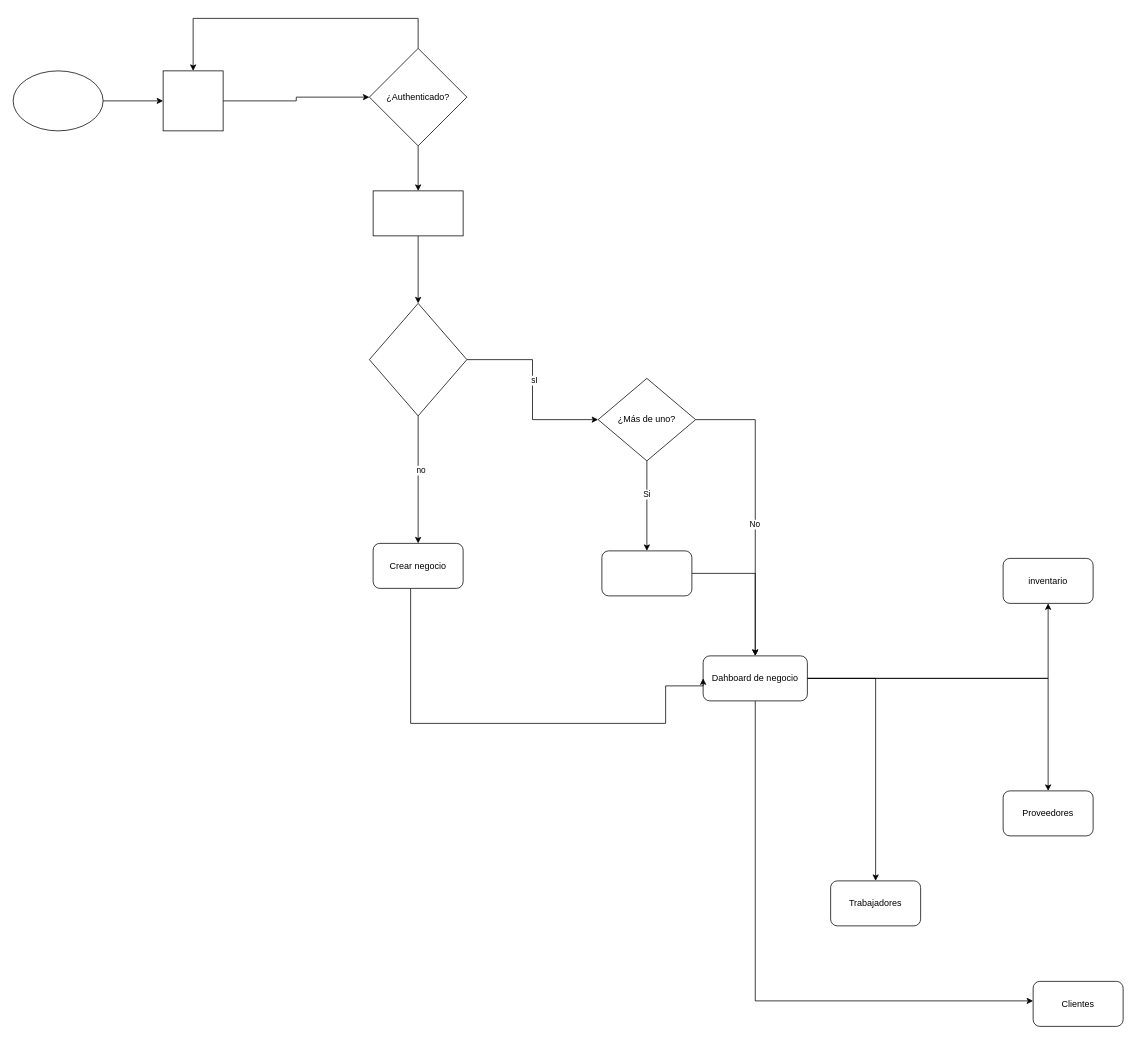
The diagram is 1136 pixels wide and 1040 high, and some of its shapes have lost their labels. Each missing label, with the centre of its shape:
"Da ha elegir que negocio quiere abrir el usuario" belongs at point (646, 573).
"Oauth" belongs at point (192, 100).
"Store helper" belongs at point (417, 213).
"¿Tiene creado algún negocio?" belongs at point (418, 359).
